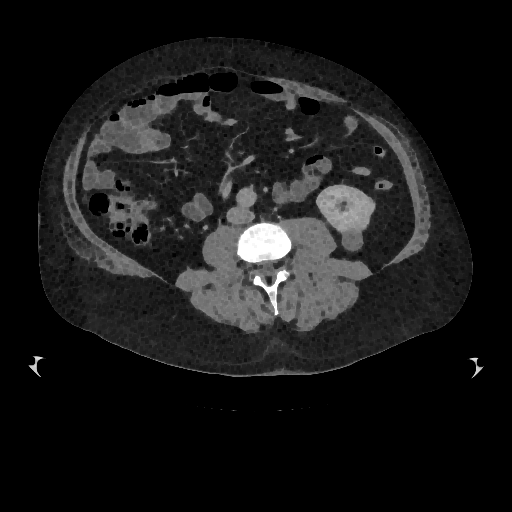Lesion: (337, 222, 367, 255)
